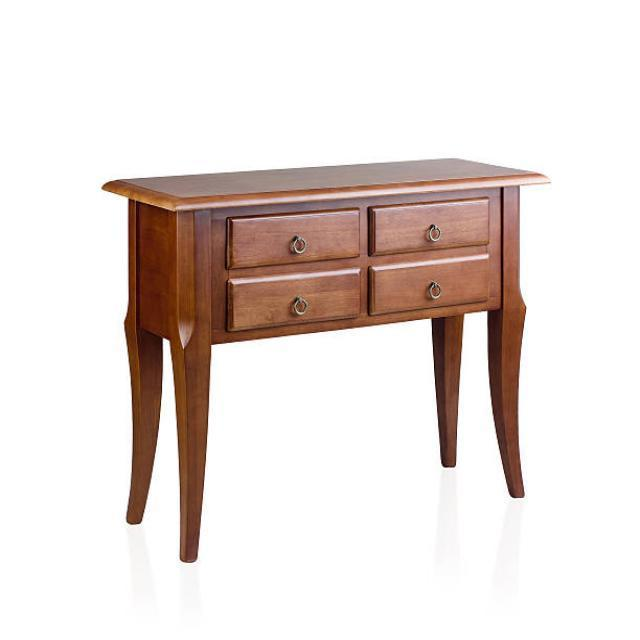table: (100, 156, 552, 563)
